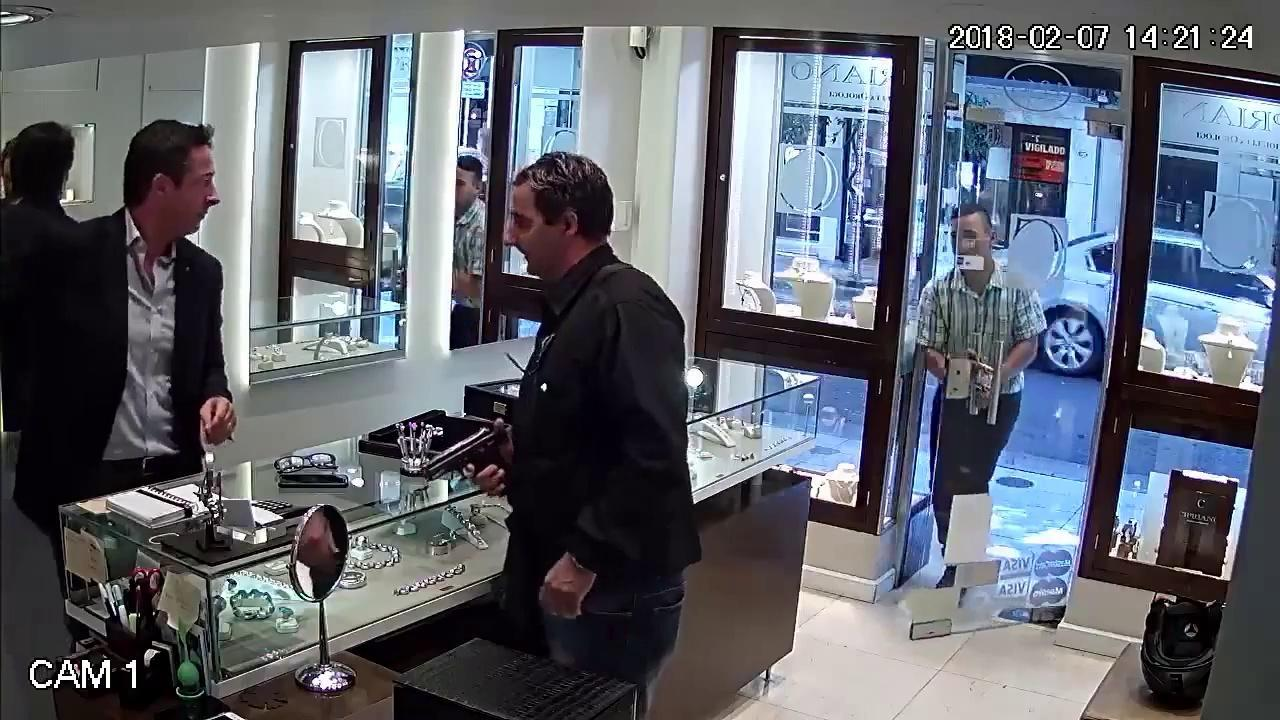Guns: (403, 407, 529, 510)
